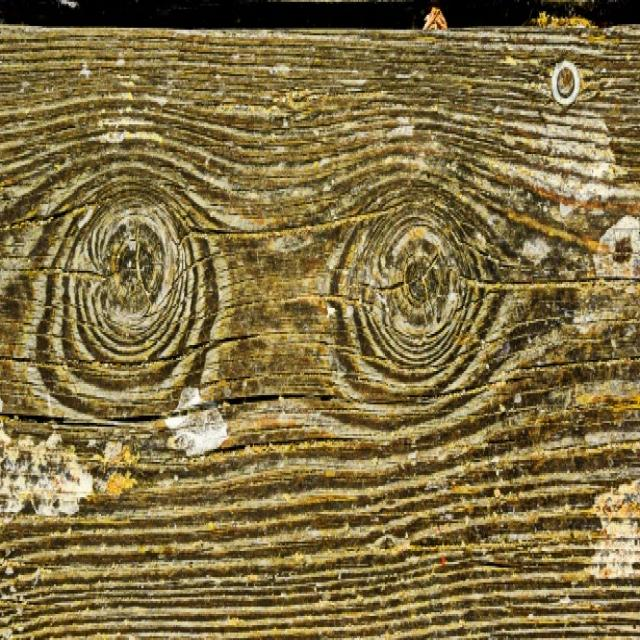have-wooden-eyes: (36, 187, 218, 413), (331, 183, 496, 401)
